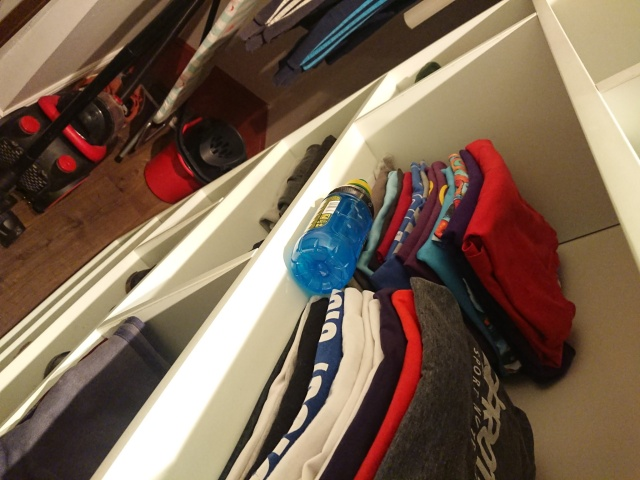Vindi Iso Sport Forest Strawberries 500mL: (288, 176, 376, 296)
